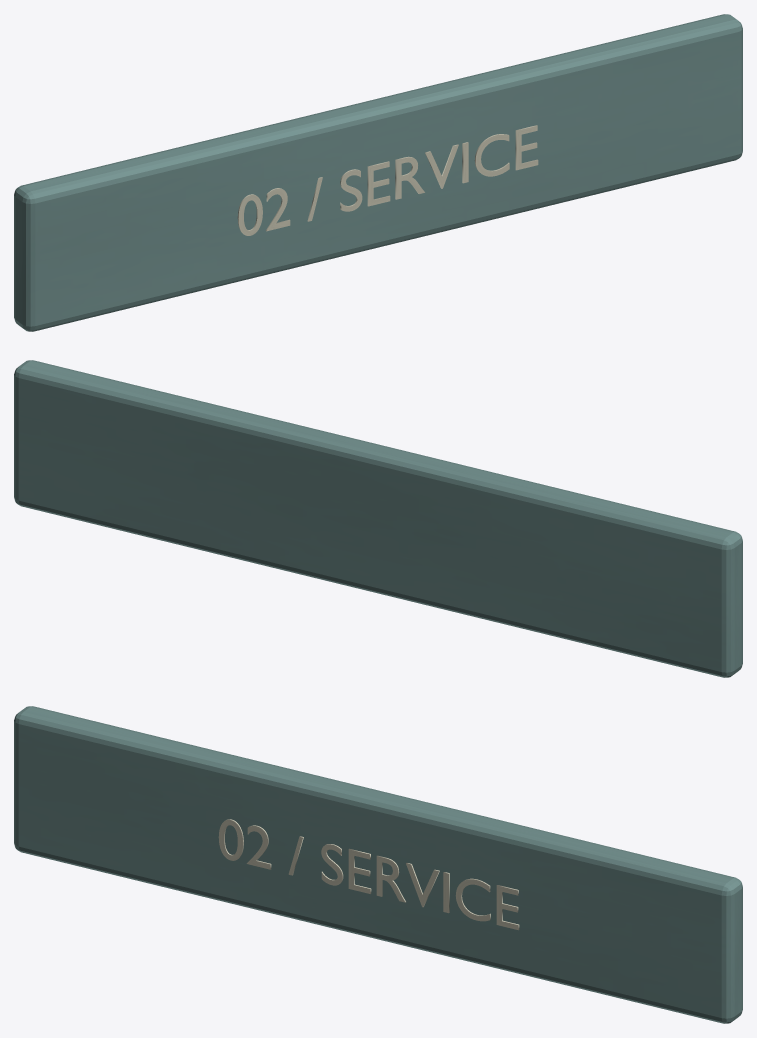
File: Sign_Service.glb
The picture shows the model from 3 angles, top to bottom: view 1: azimuth 30°, elevation 25°; view 2: azimuth 150°, elevation 25°; view 3: azimuth 330°, elevation 25°; orthographic projection.
Visible parts, largest first — view 1: Sign_Service; view 2: Sign_Service; view 3: Sign_Service.
Boxes of the visible parts, x1,y1,x2,y2 form: Sign_Service: (14,14,742,331); Sign_Service: (14,360,742,677); Sign_Service: (14,706,742,1023).
Bounding box in the file's own units: 3.5 × 0.65 × 0.153.
2 materials, 2 textured.
